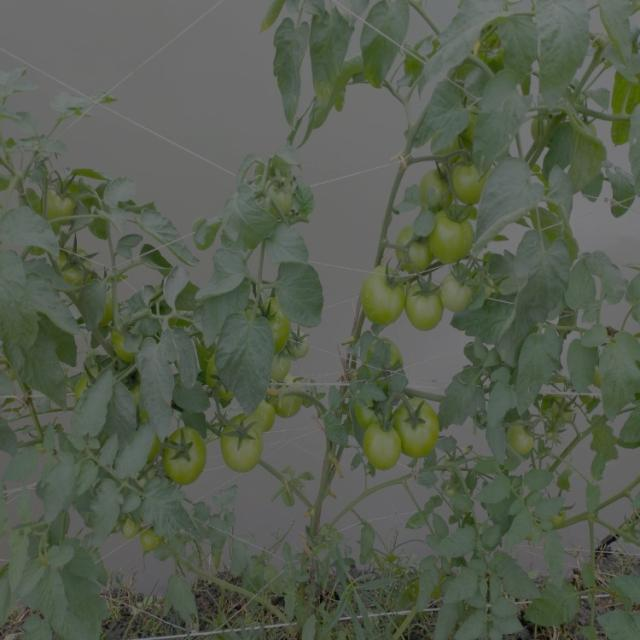tomato: (359, 265, 409, 330), (222, 417, 263, 477), (250, 292, 295, 346), (170, 426, 207, 488), (428, 215, 476, 262), (395, 401, 438, 451), (364, 424, 406, 473), (196, 364, 248, 401), (433, 125, 485, 161), (409, 285, 447, 330), (58, 254, 99, 289), (455, 161, 488, 203), (392, 235, 432, 269), (262, 179, 302, 210), (411, 173, 447, 207), (441, 276, 477, 307), (354, 394, 389, 423), (509, 424, 537, 460), (116, 329, 141, 369), (51, 181, 76, 219), (289, 330, 317, 360), (268, 360, 295, 388), (101, 293, 122, 326), (68, 371, 88, 402), (263, 403, 286, 424), (123, 522, 139, 544), (145, 534, 161, 556), (557, 508, 573, 529)
